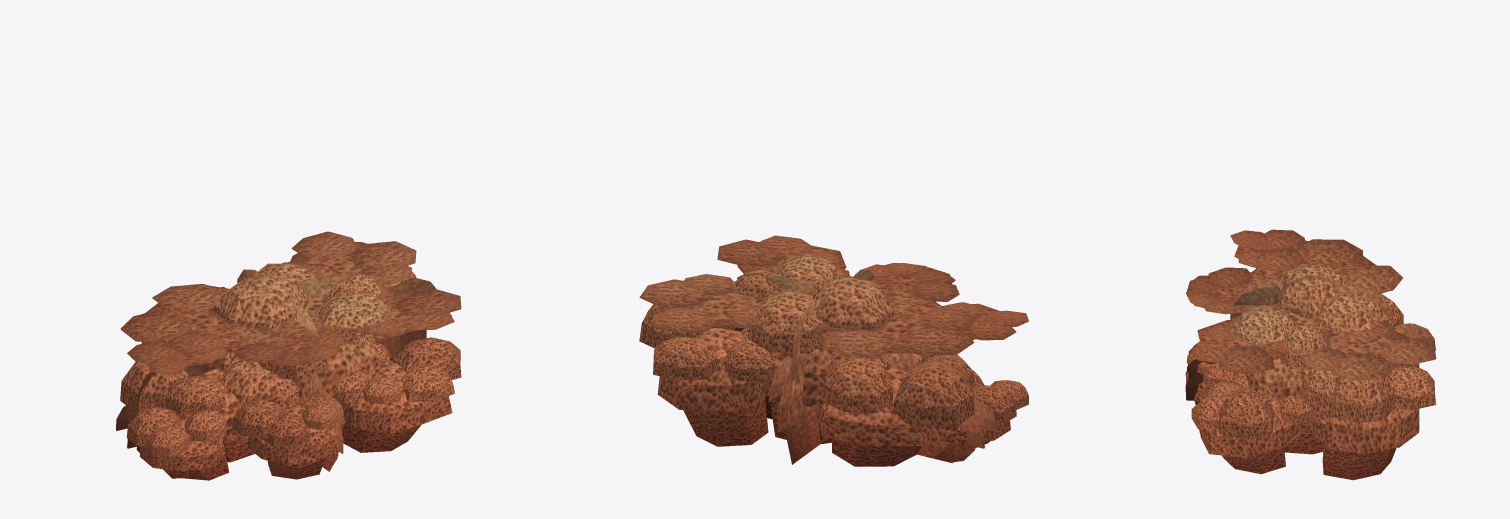
Rendered from Coral-07-Couve-Pessego.glb.
3 renders of one model, left to right at view 1: azimuth 30°, elevation 25°; view 2: azimuth 150°, elevation 25°; view 3: azimuth 270°, elevation 25°, orthographic. The views are drawn at different scales.
Visible parts, largest first — view 1: Colonia, Coral-07-Couve-Pessego impostor; view 2: Colonia, Coral-07-Couve-Pessego impostor; view 3: Colonia, Coral-07-Couve-Pessego impostor.
Boxes of the visible parts, bbox=[...] form: Colonia: bbox=[120, 263, 461, 480]; Coral-07-Couve-Pessego impostor: bbox=[116, 231, 461, 471]; Colonia: bbox=[639, 254, 1028, 466]; Coral-07-Couve-Pessego impostor: bbox=[639, 235, 1028, 464]; Colonia: bbox=[1185, 264, 1436, 480]; Coral-07-Couve-Pessego impostor: bbox=[1185, 229, 1436, 404].
Size of what is drawn, in the model's own units: 0.9342 by 0.9342 by 0.9342.
Materials: 2 (2 with a texture image).
